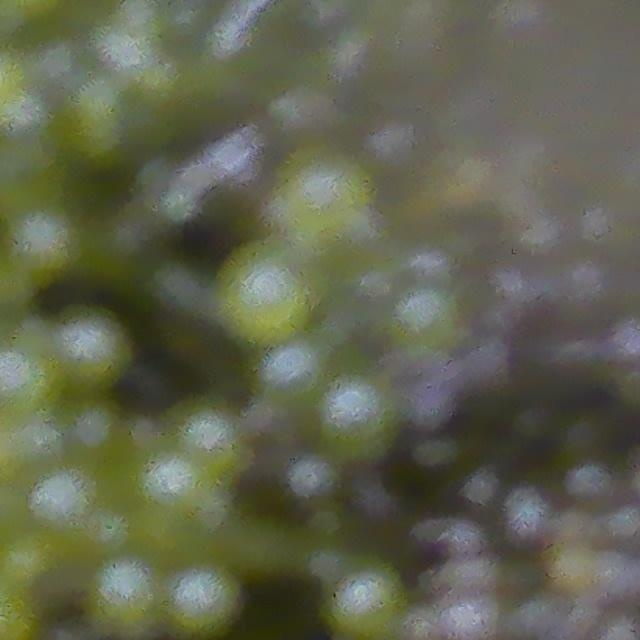SeaGrape: (212, 252, 319, 341), (54, 301, 126, 393), (321, 380, 396, 458), (94, 558, 162, 639), (165, 570, 242, 637), (333, 569, 406, 636), (29, 470, 94, 531), (265, 343, 316, 390)
